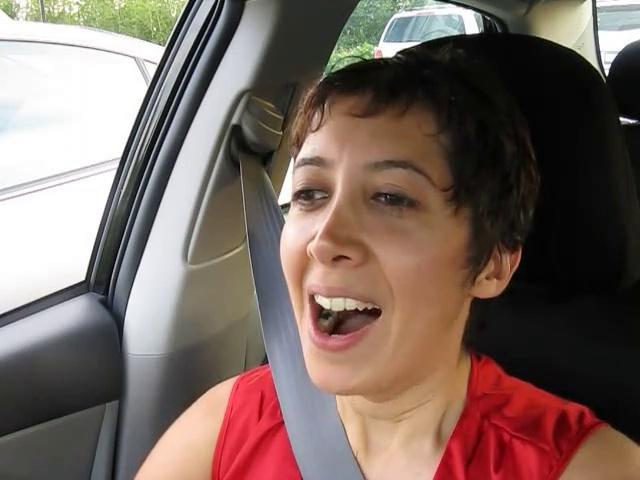close_eyeL: (282, 174, 345, 221)
close_eyeR: (348, 177, 438, 227)
yawn: (281, 278, 409, 361)
